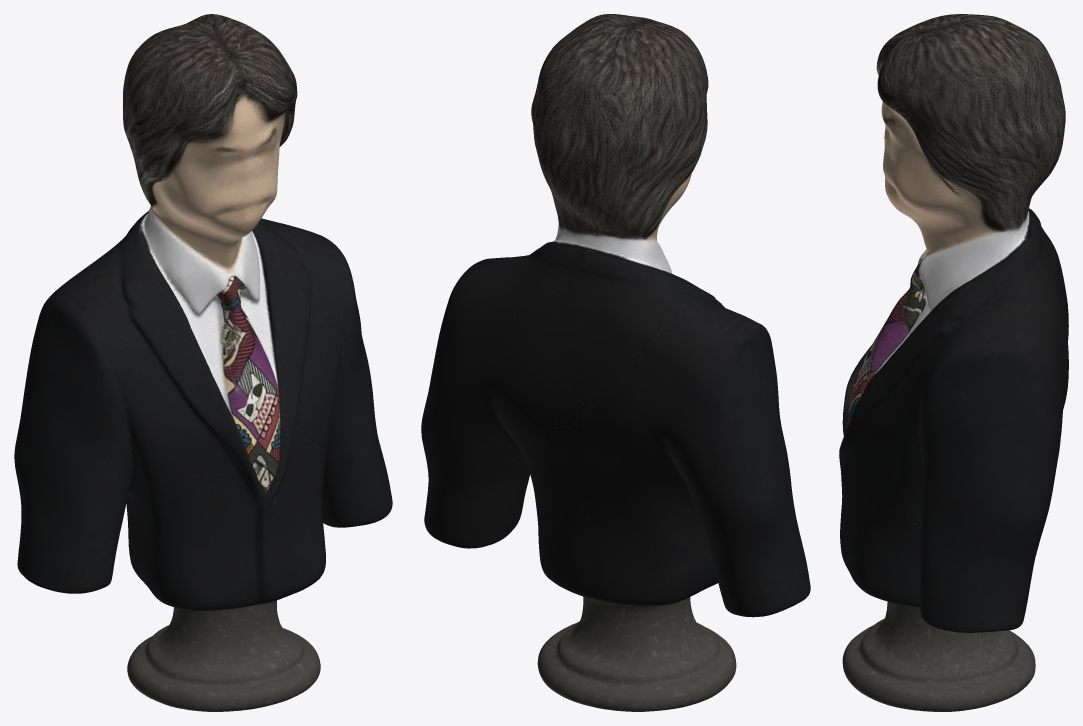
3 renders of one model, left to right at view 1: azimuth 30°, elevation 25°; view 2: azimuth 150°, elevation 25°; view 3: azimuth 270°, elevation 25°, orthographic. The views are drawn at different scales.
Size of the model in its own units: 1.11 by 1.9 by 0.6034.
Materials: 1 (1 with a texture image).
